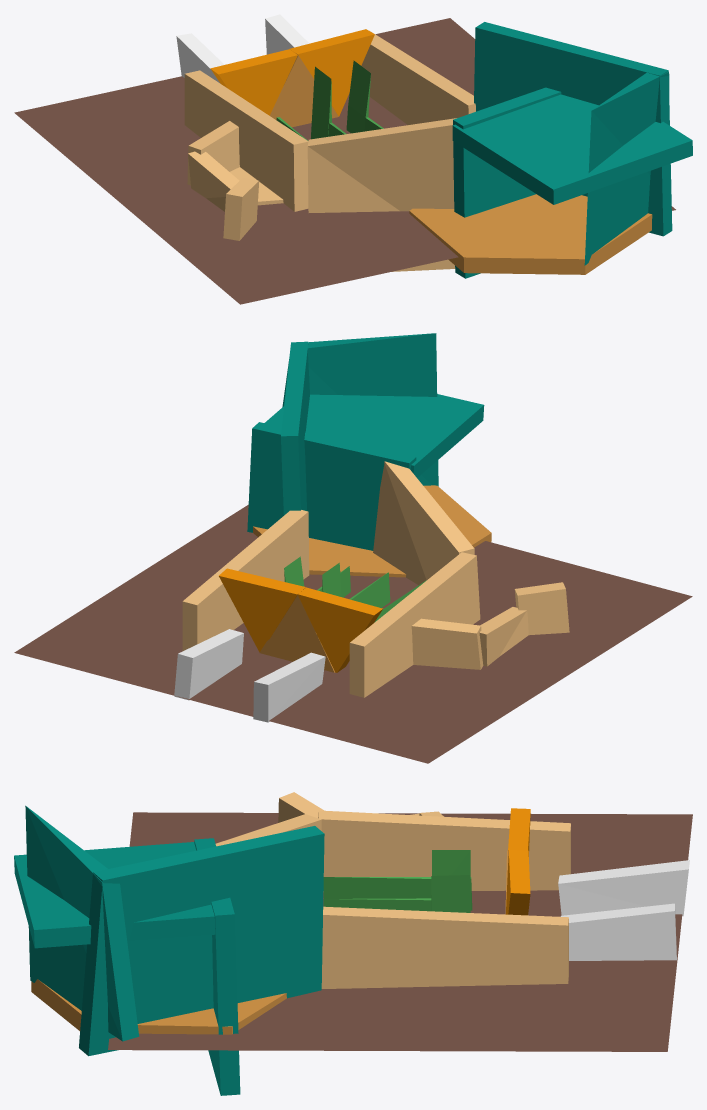
The picture shows the model from 3 angles, top to bottom: view 1: azimuth 30°, elevation 25°; view 2: azimuth 150°, elevation 25°; view 3: azimuth 270°, elevation 25°; orthographic projection. The views are drawn at different scales.
Visible parts, largest first — view 1: group_2137319609, group_1330951350, group_1504294722, group_1861535665, group_838557875, group_2116089963, group_1444147289, group_2058151680, group_1282419632, group_1898776728, group_1966137141, group_2024319359 (+7 smaller); view 2: group_2137319609, group_1282419632, group_1330951350, group_2116089963, group_1444147289, group_1504294722, group_2058151680, group_1861535665, group_838557875, group_1898776728, group_1966137141, group_1583421518 (+6 smaller); view 3: group_2137319609, group_1861535665, group_2058151680, group_2116089963, group_1444147289, group_1330951350, group_2024319359, group_2007433825, group_357416561, group_1282419632, group_838557875, group_1966137141 (+3 smaller).
Part boxes in pixels (box(x1,y1,x2,y2)): group_2137319609: box(14, 18, 675, 304); group_1330951350: box(452, 94, 692, 204); group_1504294722: box(307, 118, 456, 271); group_1861535665: box(474, 22, 672, 236); group_838557875: box(409, 194, 652, 274); group_2116089963: box(184, 70, 308, 211); group_1444147289: box(584, 71, 669, 265); group_2058151680: box(361, 30, 475, 124); group_1282419632: box(453, 87, 561, 278); group_1898776728: box(210, 49, 297, 115); group_1966137141: box(289, 29, 374, 116); group_2024319359: box(276, 60, 383, 140); group_2137319609: box(14, 504, 692, 763); group_1282419632: box(247, 422, 416, 550); group_1330951350: box(264, 394, 484, 477); group_2116089963: box(349, 552, 480, 697); group_1444147289: box(282, 333, 438, 486); group_1504294722: box(373, 461, 474, 585); group_2058151680: box(182, 510, 309, 650); group_1861535665: box(281, 341, 309, 515); group_838557875: box(253, 485, 491, 577); group_1898776728: box(297, 587, 382, 672); group_1966137141: box(219, 568, 305, 652); group_1583421518: box(411, 618, 483, 669); group_2137319609: box(108, 812, 692, 1051); group_1861535665: box(79, 826, 324, 1056); group_2058151680: box(321, 906, 568, 988); group_2116089963: box(318, 810, 570, 891); group_1444147289: box(25, 805, 139, 1041); group_1330951350: box(14, 842, 215, 948); group_2024319359: box(323, 850, 472, 912); group_2007433825: box(560, 903, 676, 960); group_357416561: box(558, 860, 689, 916); group_1282419632: box(194, 838, 240, 1095); group_838557875: box(31, 979, 286, 1034); group_1966137141: box(505, 849, 530, 915).
Bounding box in the file's own units: 14.77 × 6.8 × 17.13.
